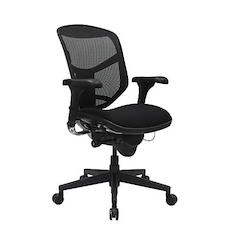chair: (43, 13, 190, 225)
